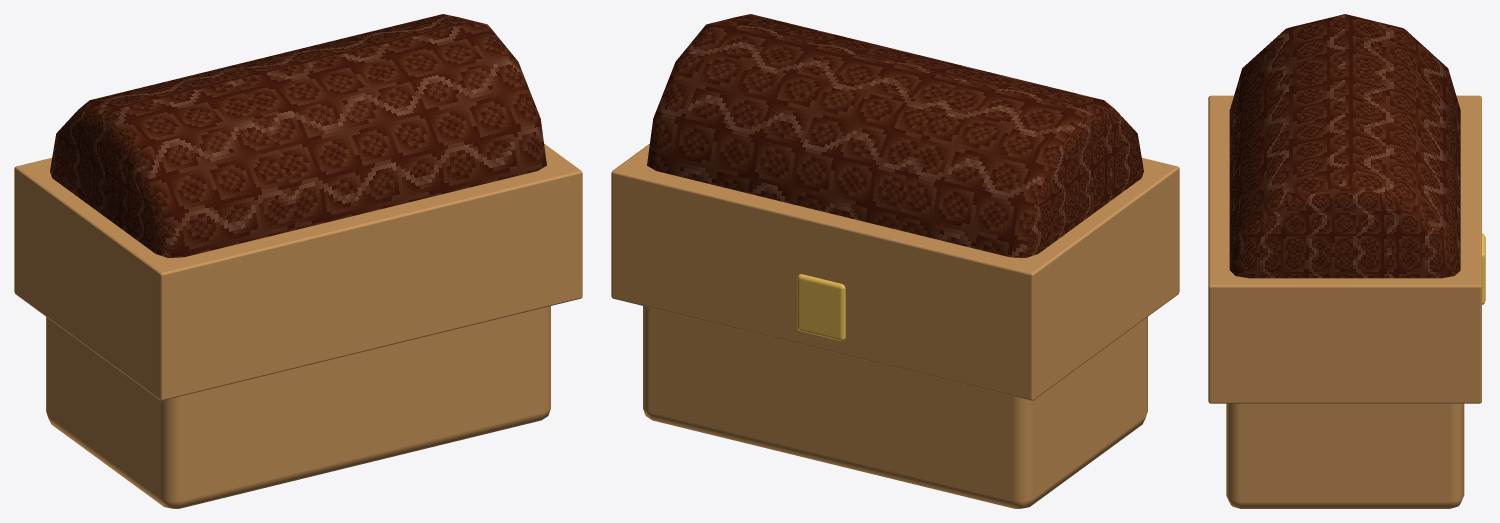
File: chest.glb
3 renders of one model, left to right at view 1: azimuth 30°, elevation 25°; view 2: azimuth 150°, elevation 25°; view 3: azimuth 270°, elevation 25°, orthographic. The views are drawn at different scales.
Visible parts, largest first — view 1: chest_wood_light, chest_curved_lid; view 2: chest_wood_light, chest_curved_lid, chest_lock; view 3: chest_wood_light, chest_curved_lid.
Boxes of the visible parts, x1,y1,x2,y2 form: chest_wood_light: (14, 143, 582, 508); chest_curved_lid: (50, 14, 546, 257); chest_wood_light: (611, 143, 1179, 508); chest_curved_lid: (647, 14, 1143, 257); chest_lock: (797, 274, 845, 340); chest_wood_light: (1208, 95, 1481, 508); chest_curved_lid: (1229, 14, 1460, 278).
Size of the model in its own units: 1.9 by 1.54 by 1.17.
4 materials, 1 textured.
